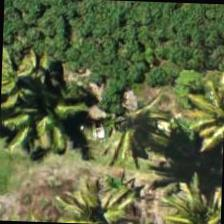Kelapa_Sawit: (0, 35, 61, 128), (56, 176, 149, 223)
